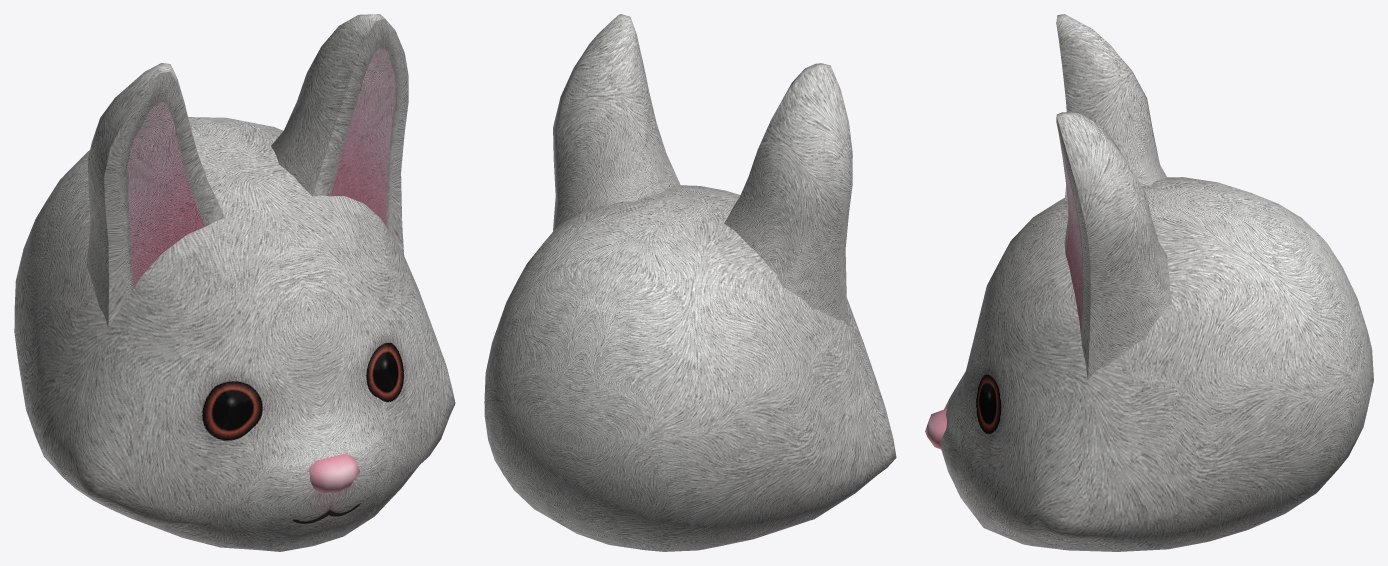
The model's file is CRT0110025.FBX.
3 renders of one model, left to right at view 1: azimuth 30°, elevation 25°; view 2: azimuth 150°, elevation 25°; view 3: azimuth 270°, elevation 25°, orthographic. The views are drawn at different scales.
Parts seen in each view (by area): view 1: smCRT0110025; view 2: smCRT0110025; view 3: smCRT0110025.
Boxes of the visible parts, <box> form: smCRT0110025: <box>14,14,455,551</box>; smCRT0110025: <box>484,14,896,551</box>; smCRT0110025: <box>925,14,1373,551</box>.
Size of the model in its own units: 0.123 by 0.155 by 0.1372.
1 material, 1 textured.
